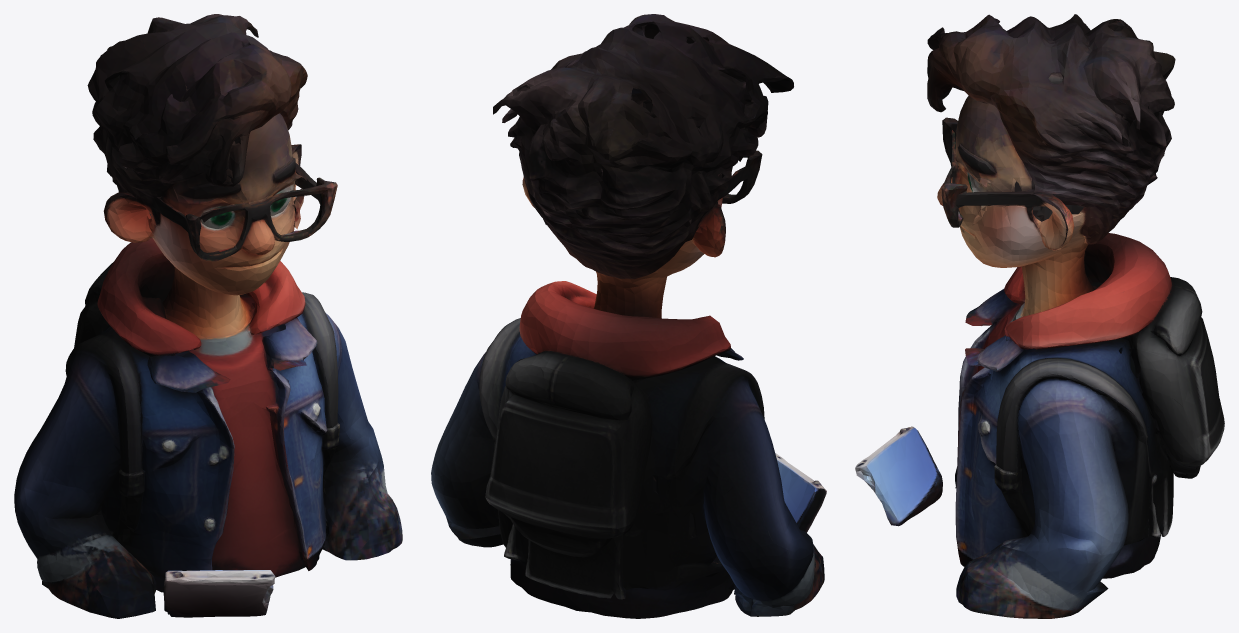
Rendered from garcon3.glb.
3 views of the same model, side by side, from view 1: azimuth 30°, elevation 25°; view 2: azimuth 150°, elevation 25°; view 3: azimuth 270°, elevation 25° (orthographic). The views are drawn at different scales.
Visible parts, largest first — view 1: world; view 2: world; view 3: world.
Boxes of the visible parts, x1,y1,x2,y2 form: world: [14, 14, 402, 618]; world: [431, 14, 826, 618]; world: [855, 14, 1224, 618].
Size of the model in its own units: 0.7009 by 0.9992 by 0.6476.
1 material, 1 textured.
